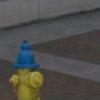Hydrant: (6, 30, 52, 100)
